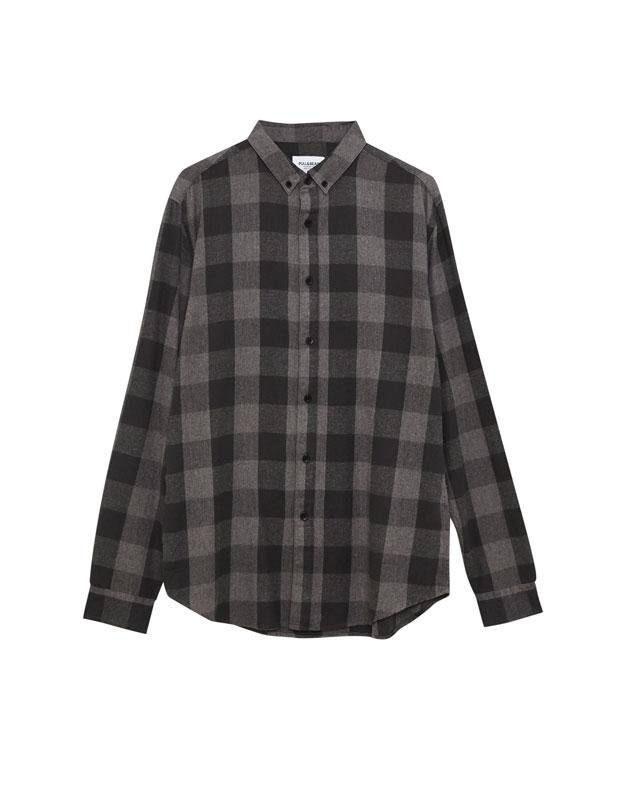teeshirt: (73, 118, 558, 641)
